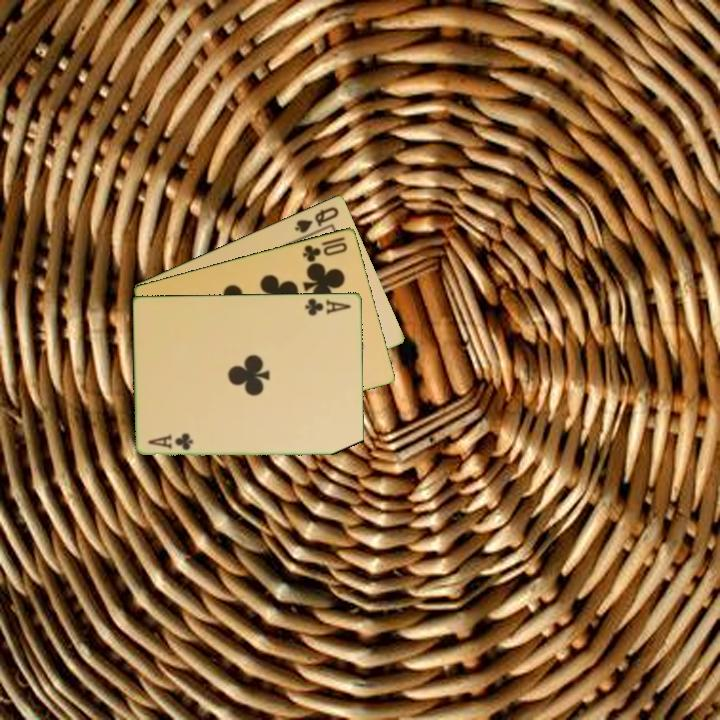10c: (299, 233, 351, 265)
Ac: (302, 294, 354, 318), (144, 430, 196, 452)
Qs: (291, 203, 342, 235)
